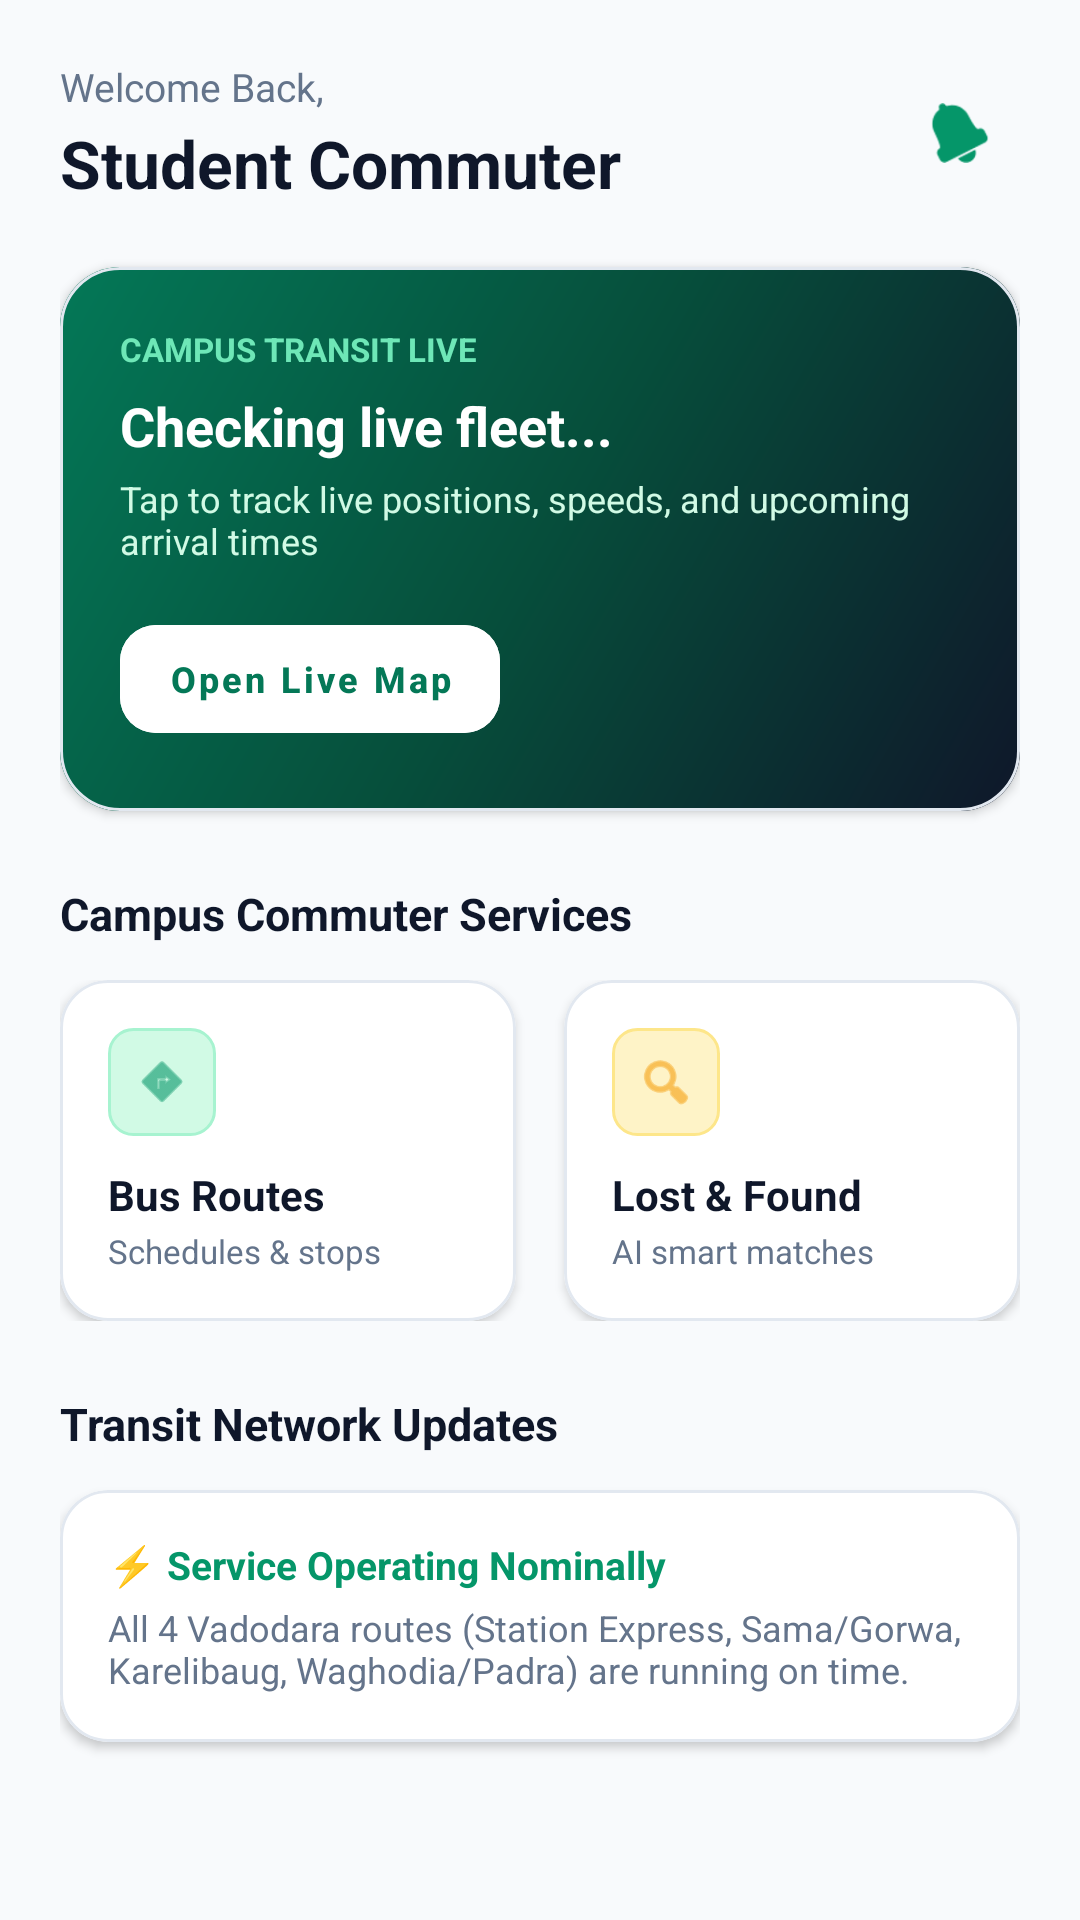

Named icons in this screenshot (1080px×1920px) and their centers, [x,y]:
directions: [162,1082]
popup reminder: [960,133]
search: [666,1082]
